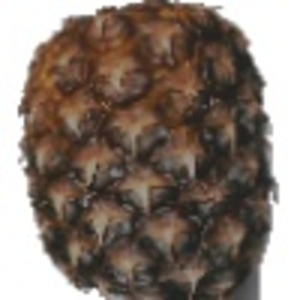abacaxi: (15, 1, 278, 291)
